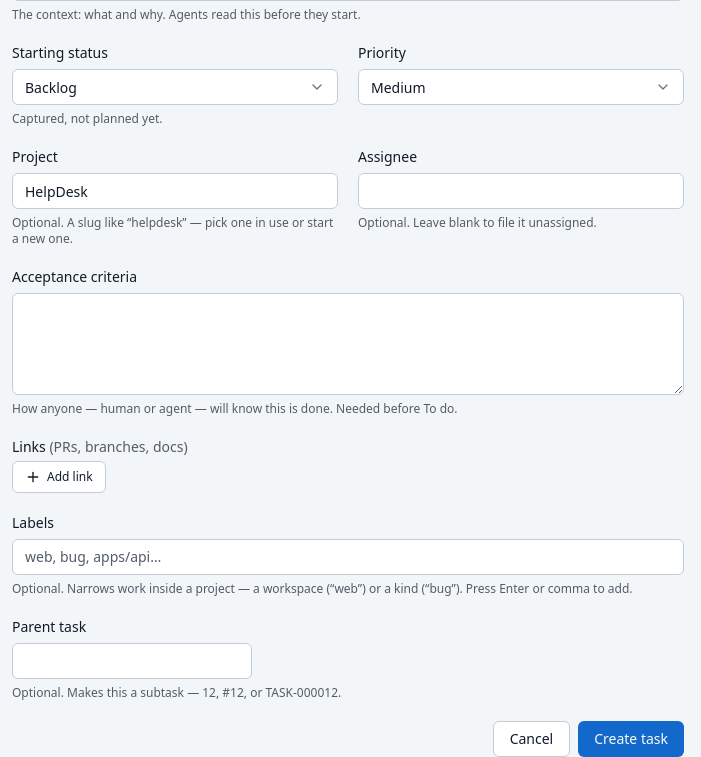
Test: TaskForm — server details are split, never mapped directly › routes `_` and unrendered field names to the summary rather than dropping them
(page scrolled)
Click the button "Create task" at (631, 739), box [578,721,684,756]
(page scrolled)
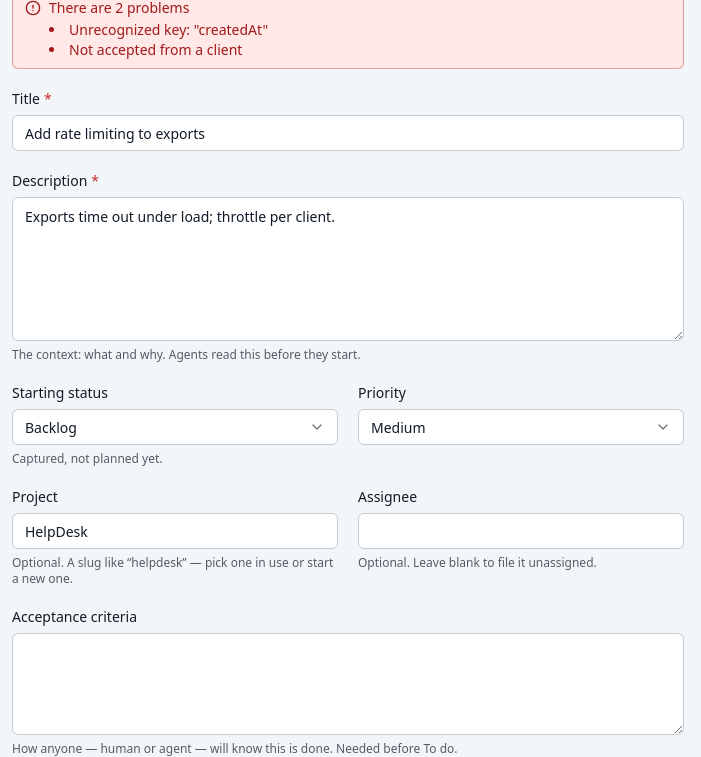
Expected: the message shows "Unrecognized key: \"createdAt\"", [69,20,268,39]
Expected: the message shows "Not accepted from a client", [69,40,242,59]
